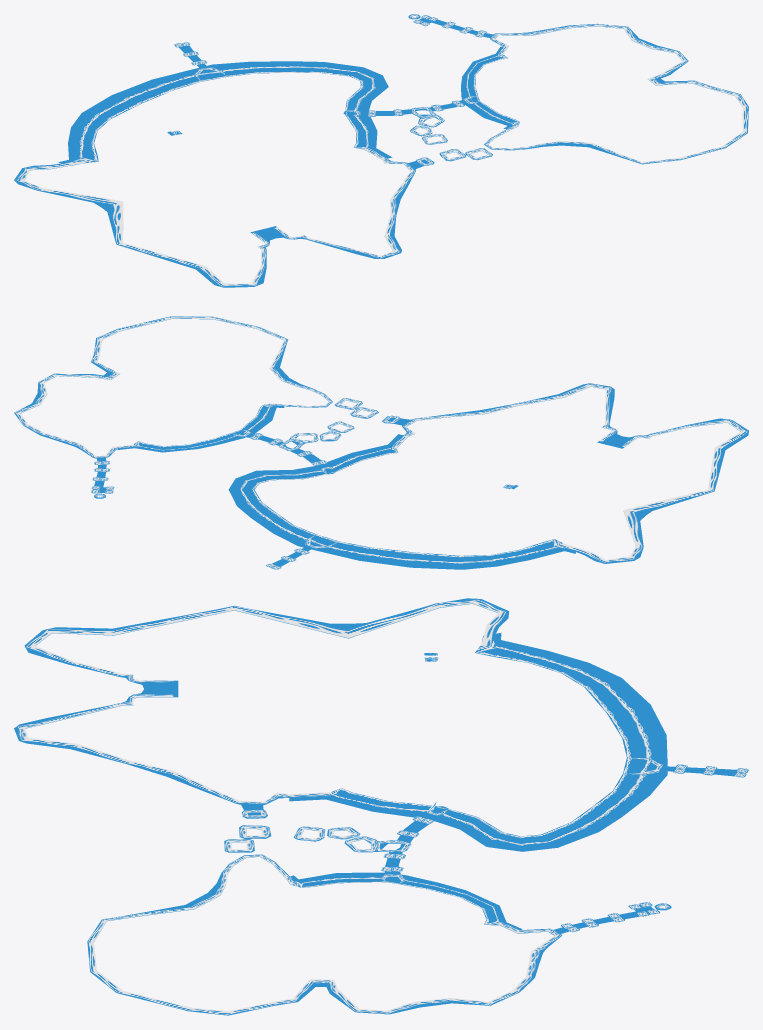
The model's file is Sea.obj.
3 renders of one model, top to bottom at view 1: azimuth 30°, elevation 25°; view 2: azimuth 150°, elevation 25°; view 3: azimuth 270°, elevation 25°, orthographic. The views are drawn at different scales.
Visible parts, largest first — view 1: n1b1, n2b3, n4b4, n3b2; view 2: n1b1, n2b3, n4b4, n3b2; view 3: n1b1, n2b3, n4b4, n3b2.
Part boxes in pixels (x1,y1,x2,y2): n1b1: (16, 14, 748, 286); n2b3: (58, 46, 517, 165); n4b4: (14, 14, 747, 287); n3b2: (83, 56, 519, 161); n1b1: (14, 316, 748, 569); n2b3: (117, 405, 575, 569); n4b4: (14, 318, 748, 567); n3b2: (138, 405, 554, 561); n1b1: (16, 599, 748, 1015); n2b3: (289, 632, 667, 932); n4b4: (14, 598, 742, 1015); n3b2: (301, 648, 646, 925).
Size of what is drawn, in the model's own units: 19857 by 795 by 14780.
7 materials, 7 textured.
